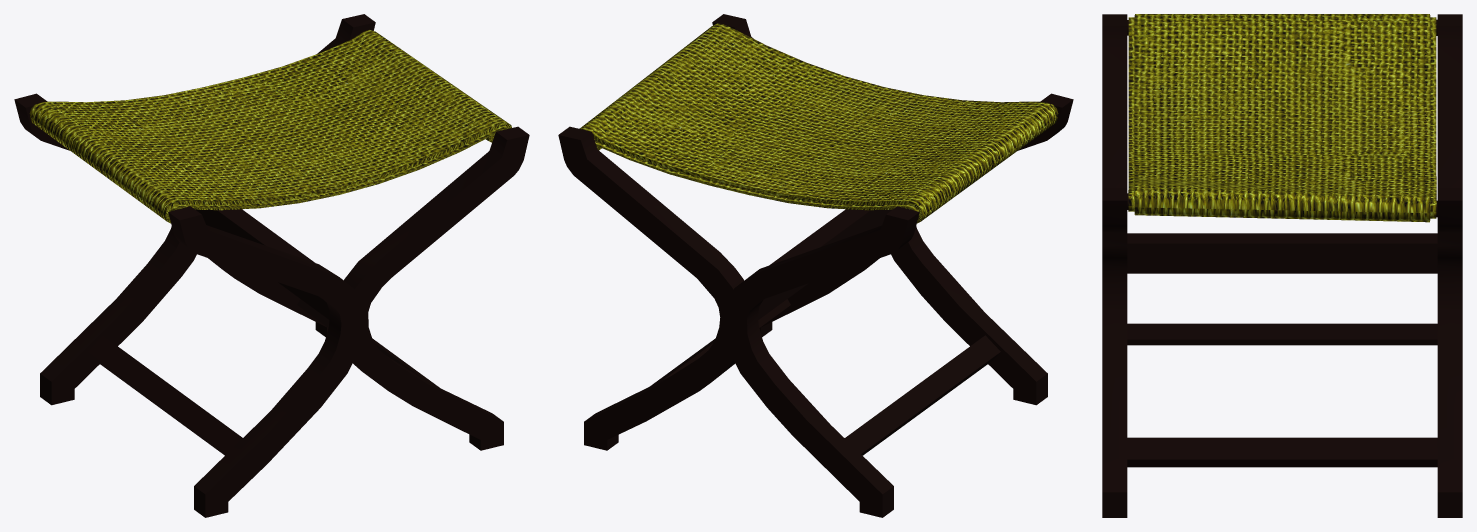
Rendered from greenChairSF.obj.
3 renders of one model, left to right at view 1: azimuth 30°, elevation 25°; view 2: azimuth 150°, elevation 25°; view 3: azimuth 270°, elevation 25°, orthographic. The views are drawn at different scales.
Visible parts, largest first — view 1: green_chair; view 2: green_chair; view 3: green_chair.
Part boxes in pixels (<box>): green_chair: <box>14,14,529,517</box>; green_chair: <box>558,14,1073,517</box>; green_chair: <box>1102,14,1462,517</box>.
Bounding box in the file's own units: 53.13 × 44.78 × 43.45.
2 materials, 1 textured.
